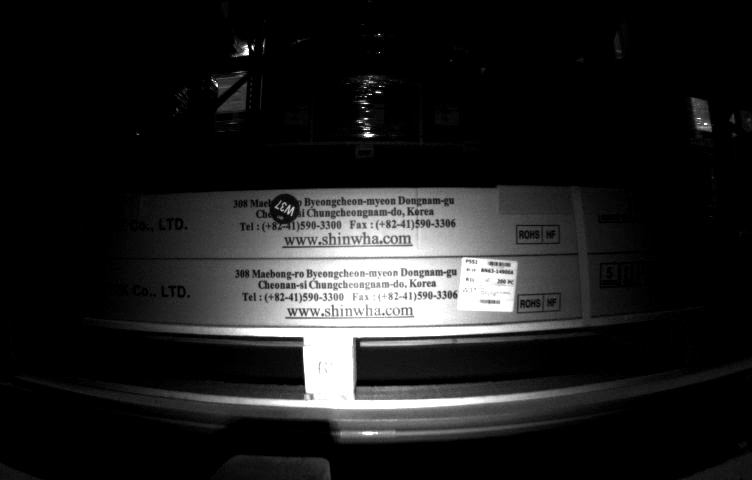True Barcode: (460, 255, 521, 314)
